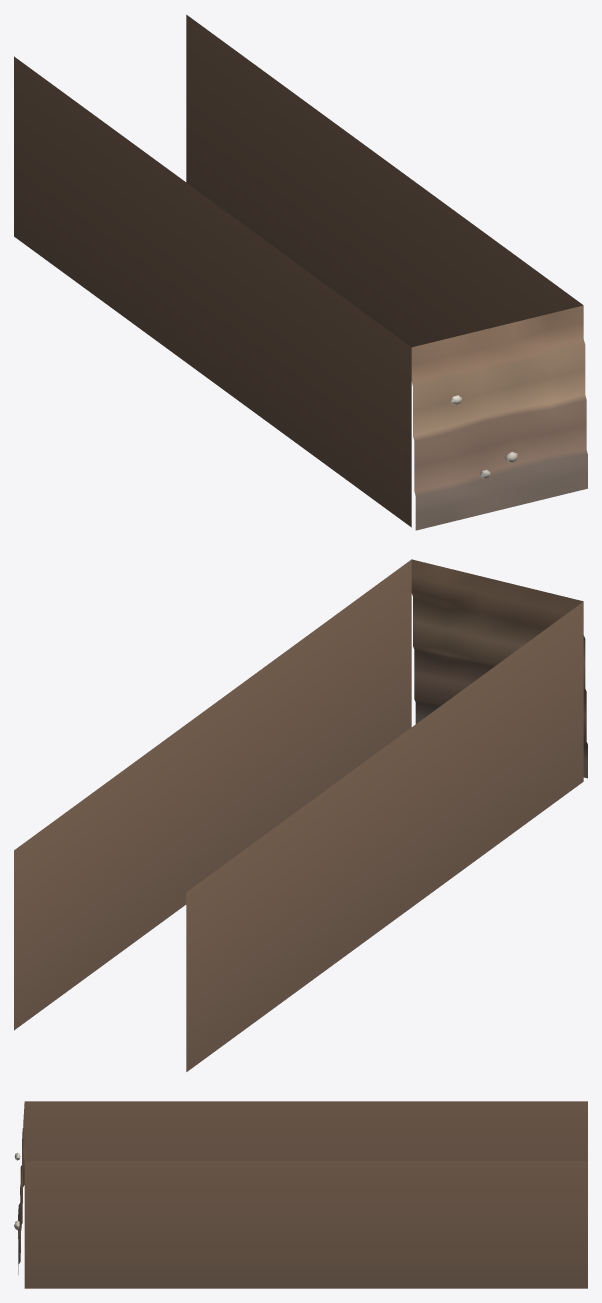
Rendered from groundlite_earth_3.glb.
3 views of the same model, one above another, from view 1: azimuth 30°, elevation 25°; view 2: azimuth 150°, elevation 25°; view 3: azimuth 270°, elevation 25° (orthographic). The views are drawn at different scales.
Visible parts, largest first — view 1: groundlite_earth_3; view 2: groundlite_earth_3; view 3: groundlite_earth_3.
Part boxes in pixels (x1,y1,x2,y2): groundlite_earth_3: (14,14,587,530); groundlite_earth_3: (14,559,587,1071); groundlite_earth_3: (14,1101,587,1288).
Bounding box in the file's own units: 1 × 1 × 4.08.
